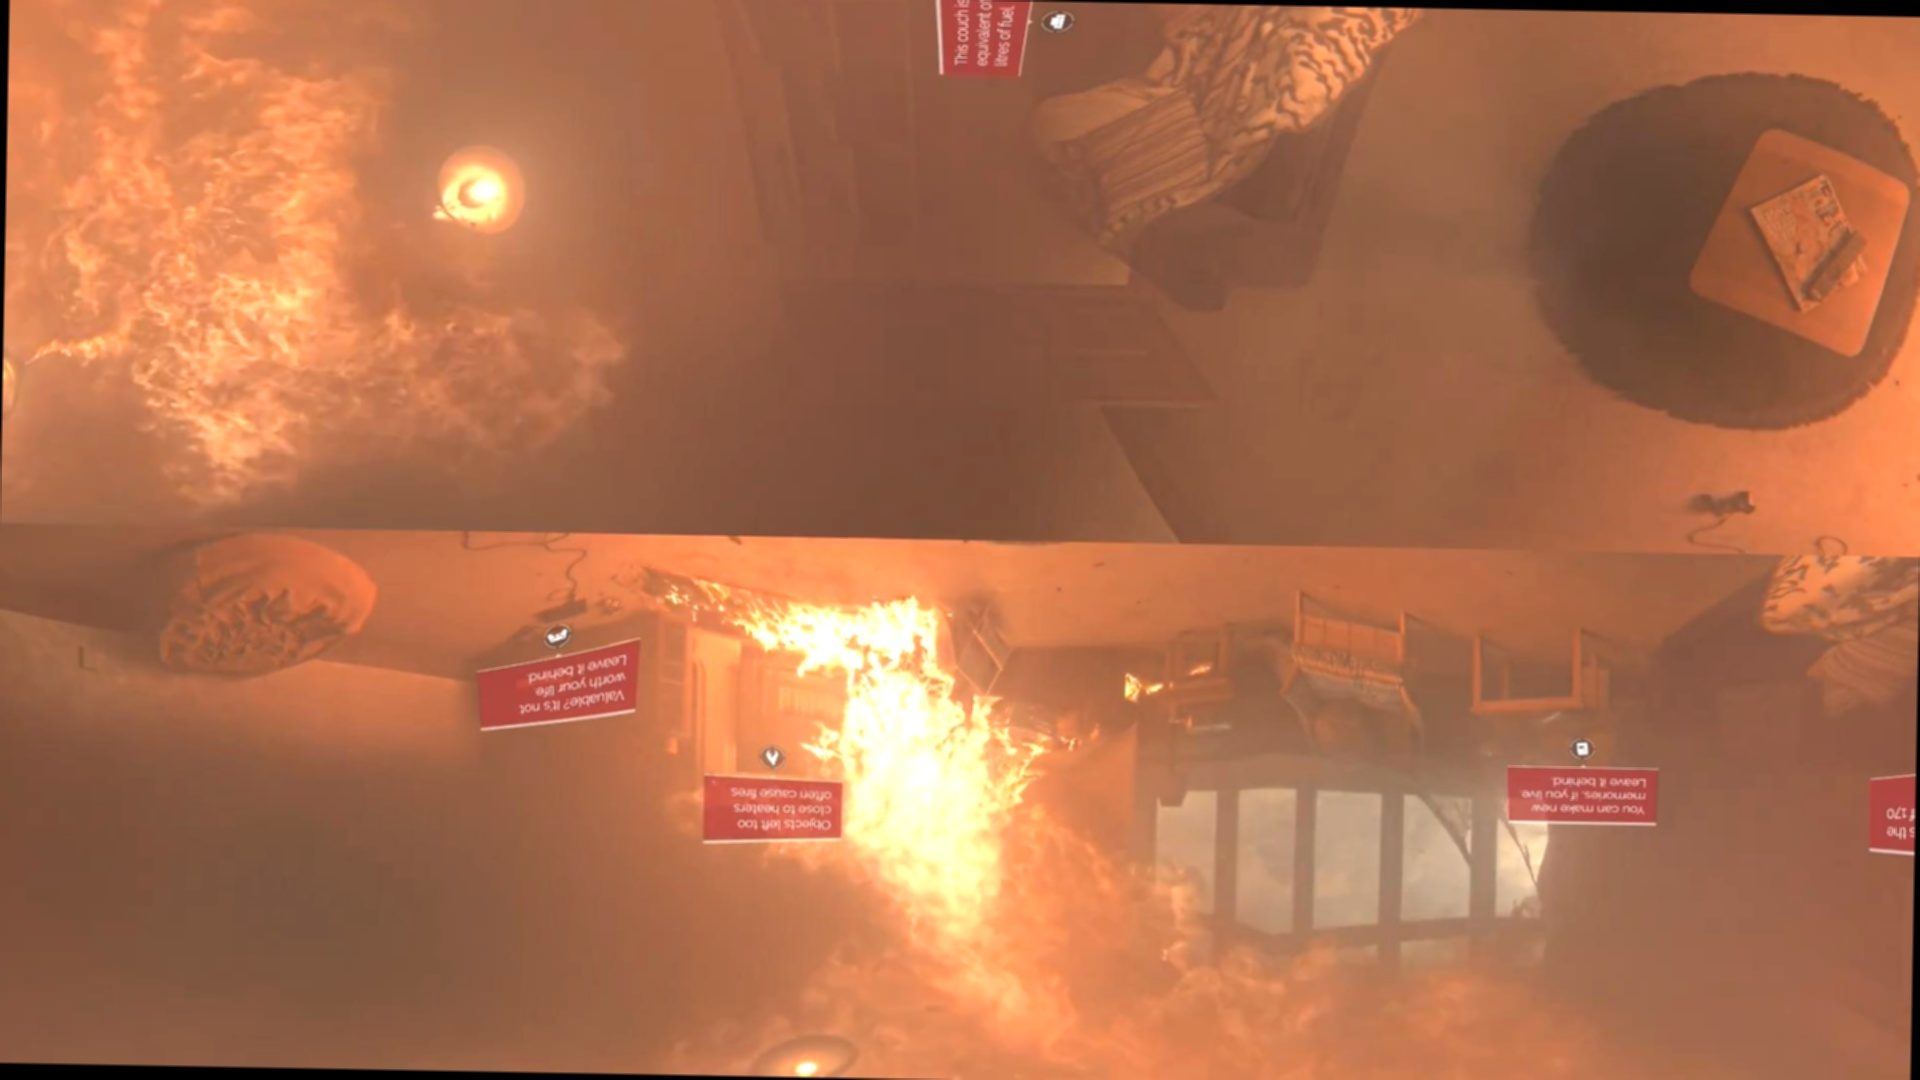fire: (764, 592, 1106, 1080)
